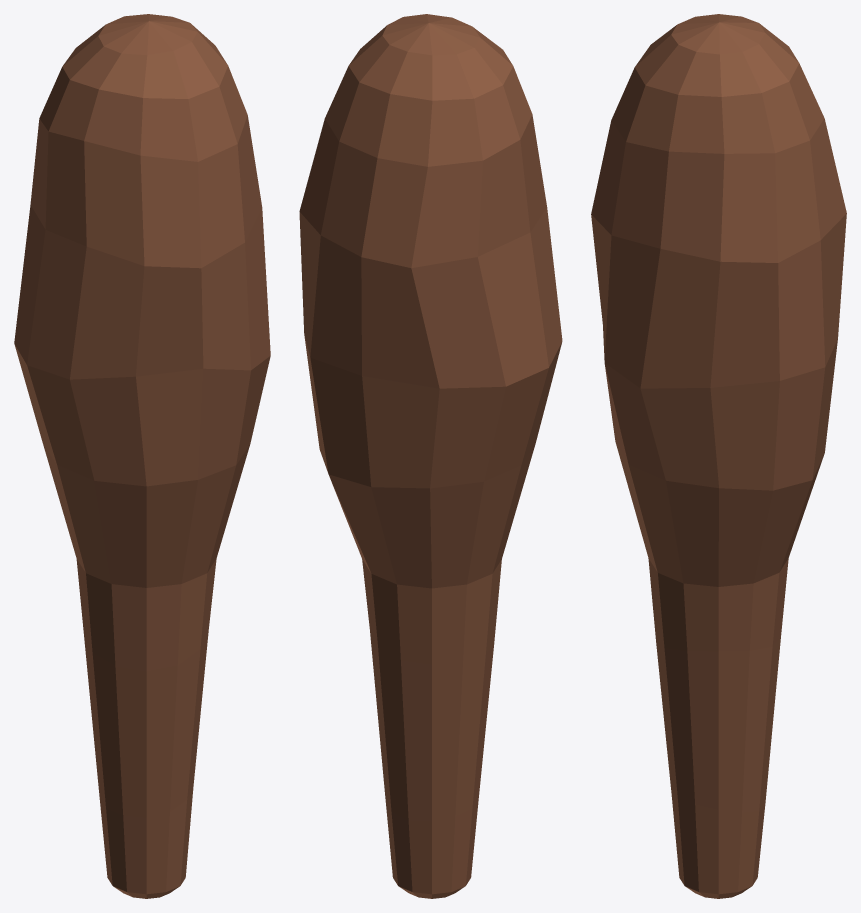
Rendered from Wooden Club.fbx.
3 views of the same model, side by side, from view 1: azimuth 30°, elevation 25°; view 2: azimuth 150°, elevation 25°; view 3: azimuth 270°, elevation 25° (orthographic).
Visible parts, largest first — view 1: Wooden Club; view 2: Wooden Club; view 3: Wooden Club.
Boxes of the visible parts, x1,y1,x2,y2 form: Wooden Club: [14, 14, 270, 898]; Wooden Club: [299, 14, 562, 898]; Wooden Club: [591, 14, 846, 898].
Bounding box in the file's own units: 26.3 × 95.71 × 25.6.
